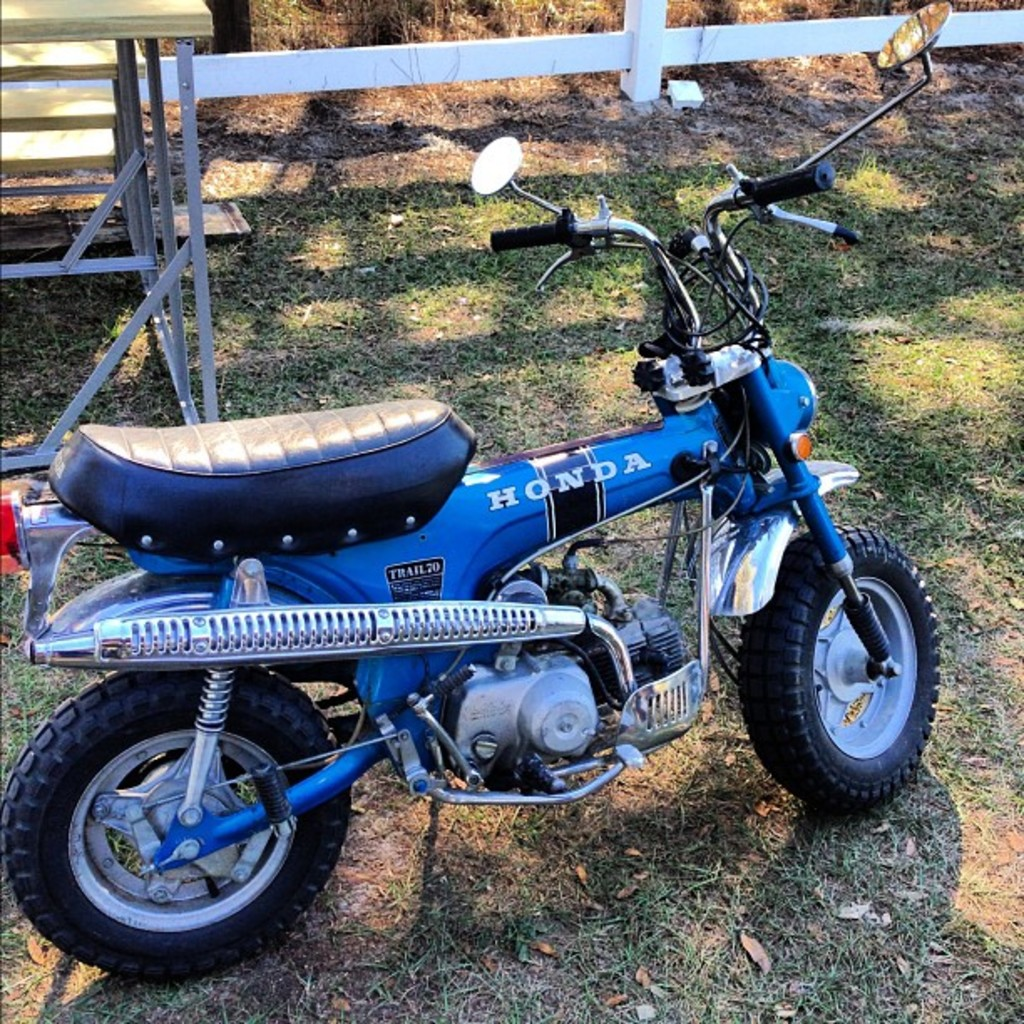Motorcycle: (0, 0, 943, 985)
